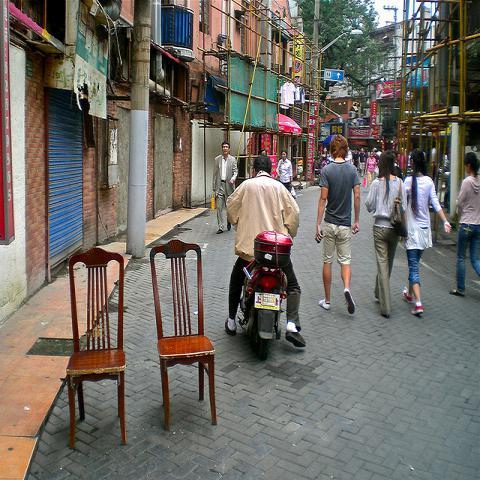motorcycle: (247, 230, 296, 359), (237, 260, 253, 330)
